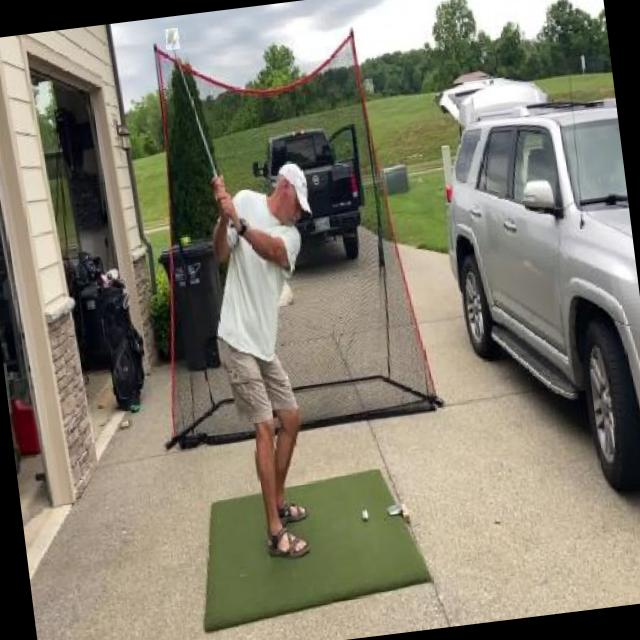club head: (164, 28, 180, 50)
